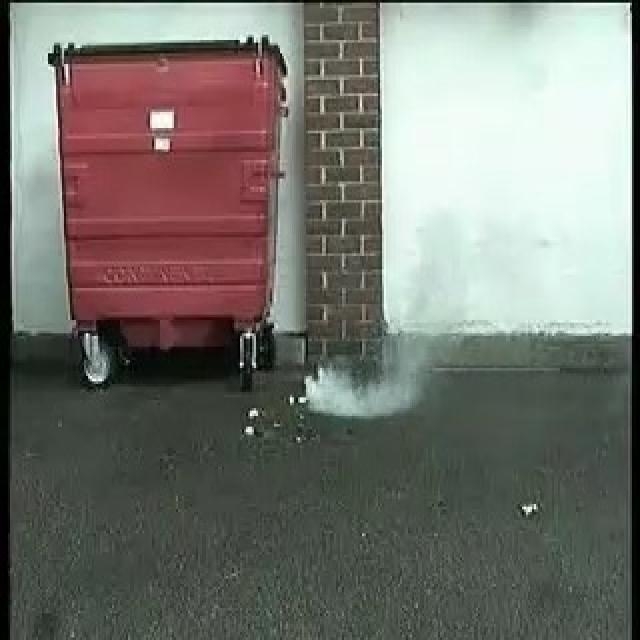Smoke: (306, 350, 435, 420)
